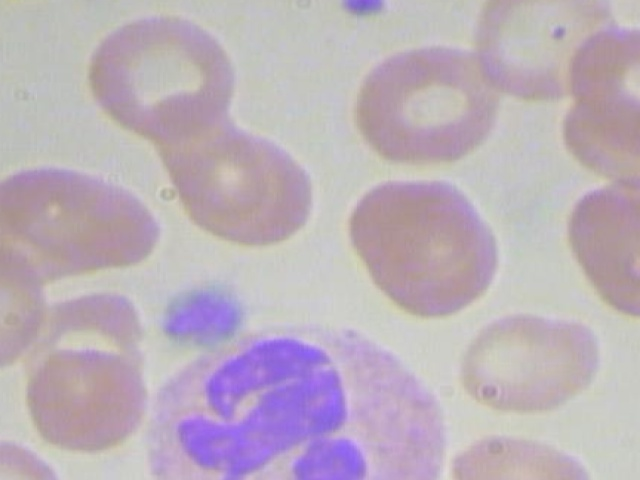Platelets: (151, 275, 255, 349), (324, 0, 389, 28)
RBC: (339, 172, 509, 316), (350, 37, 512, 174), (77, 2, 239, 139), (450, 310, 617, 421), (12, 342, 150, 456), (551, 176, 640, 319), (440, 414, 606, 480), (0, 237, 48, 372), (0, 432, 76, 480)
WBC: (113, 325, 463, 480)
